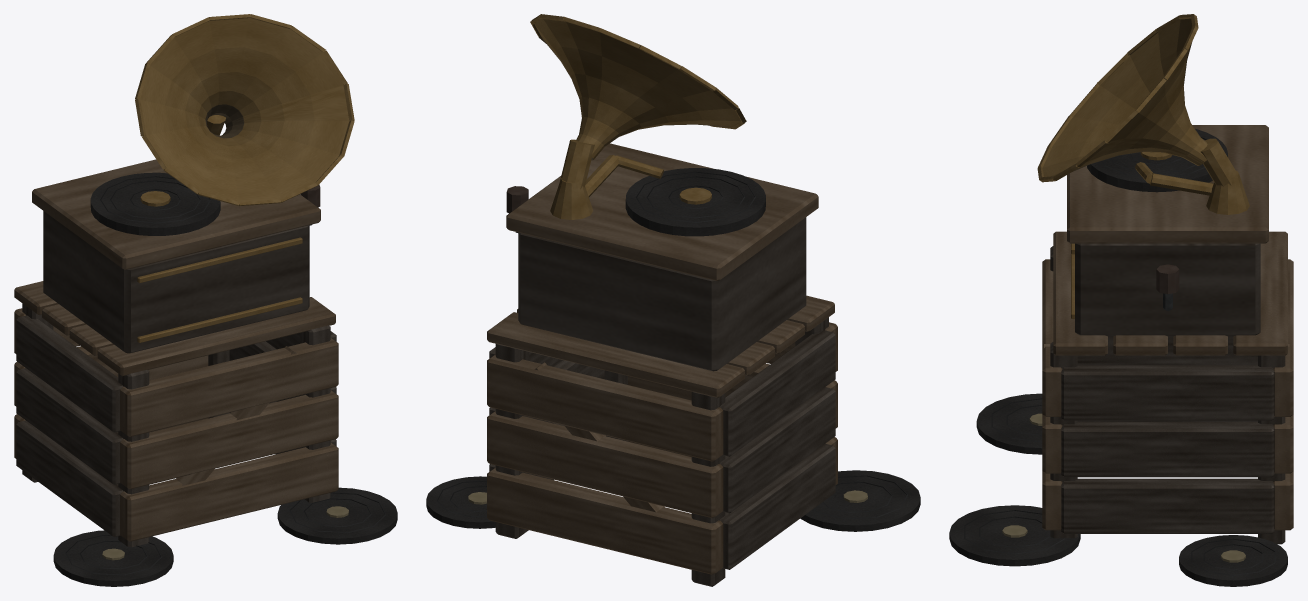
Rendered from env_gramophone.fbx.
The picture shows the model from 3 angles, left to right: view 1: azimuth 30°, elevation 25°; view 2: azimuth 150°, elevation 25°; view 3: azimuth 270°, elevation 25°; orthographic projection. The views are drawn at different scales.
Visible parts, largest first — view 1: env_gramophone; view 2: env_gramophone; view 3: env_gramophone.
Part boxes in pixels (<box>): env_gramophone: <box>14,14,397,586</box>; env_gramophone: <box>426,14,920,586</box>; env_gramophone: <box>949,14,1293,586</box>.
Size of the model in its own units: 90 by 70 by 110.
Materials: 1 (1 with a texture image).
